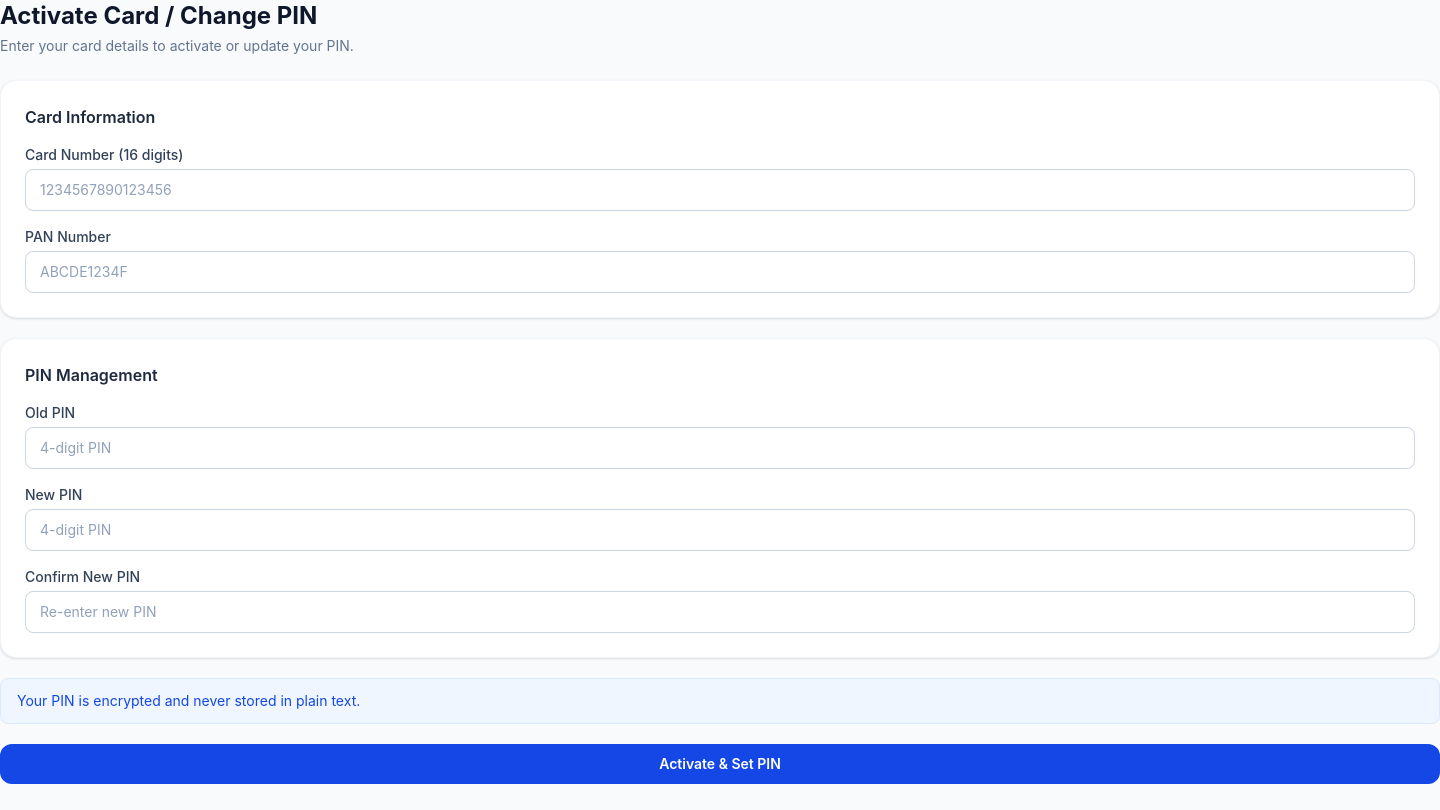
ActivateCard page › shows card number validation error for non-16-digit input
Type "12345" into the field labelled "Card Number (16 digits)" at (720, 190), box x1=25 y1=169 x2=1415 y2=211
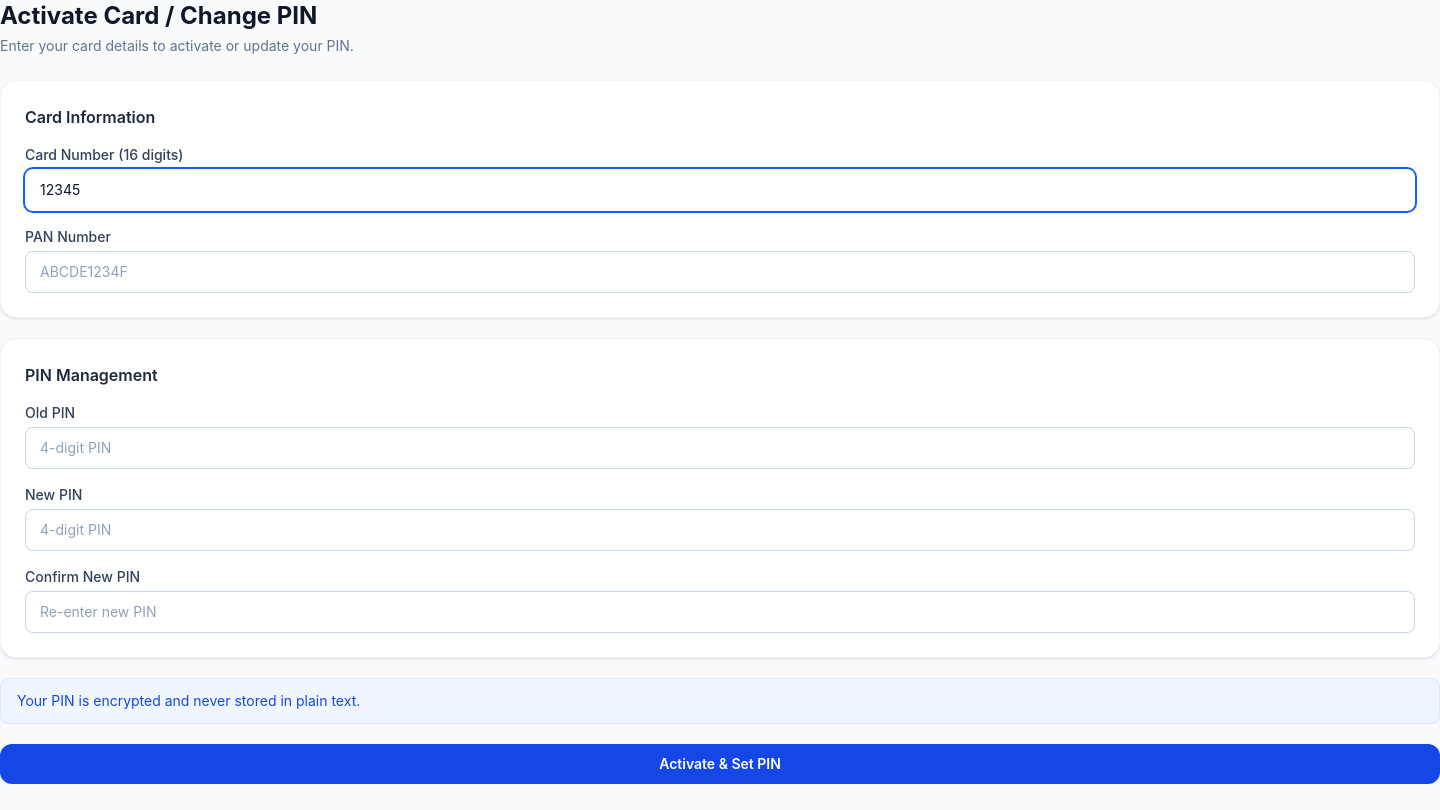
Click the button "Activate & Set PIN" at (720, 764), box x1=0 y1=744 x2=1439 y2=784
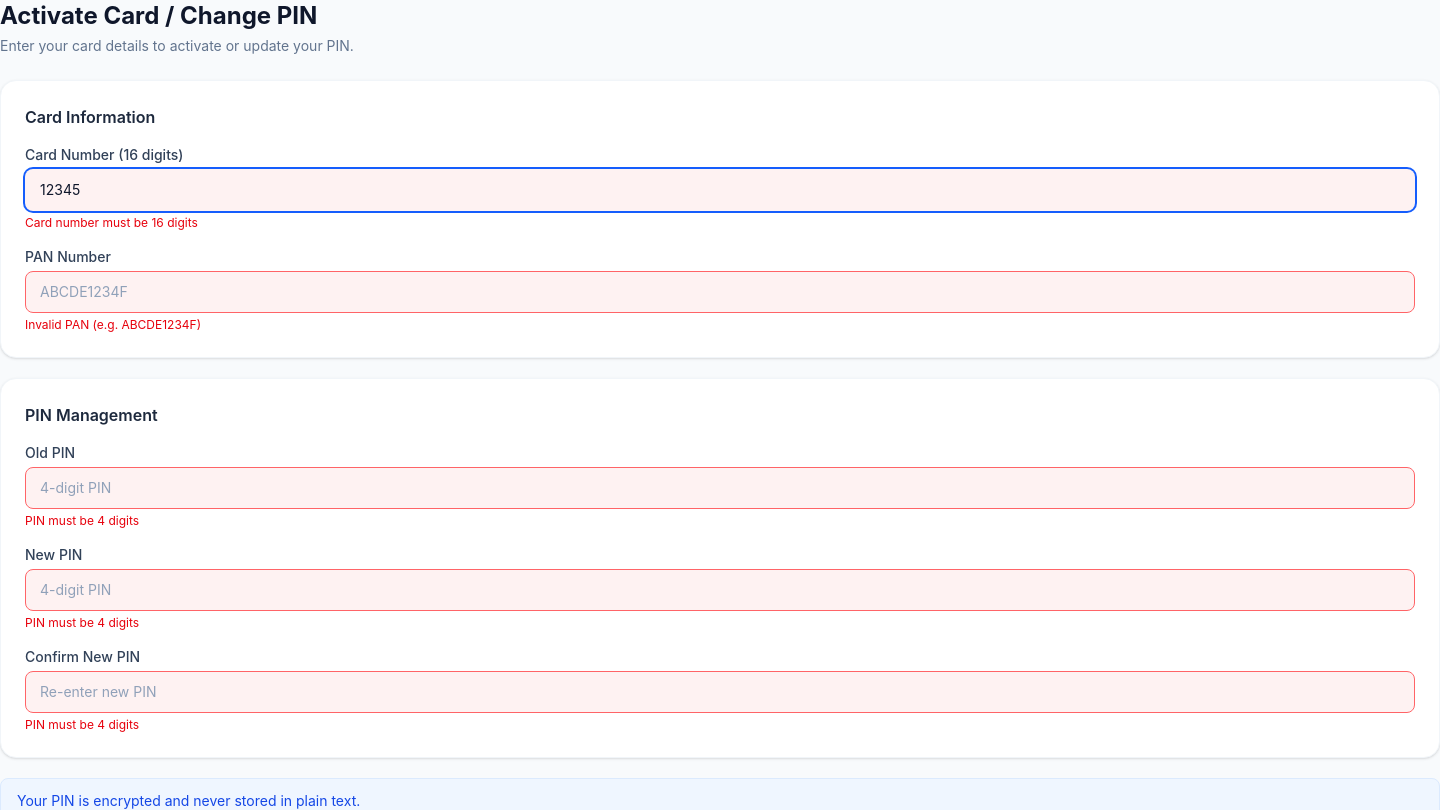
Result: the text "Card number must be 16 digits" is shown at x1=25 y1=215 x2=198 y2=230
